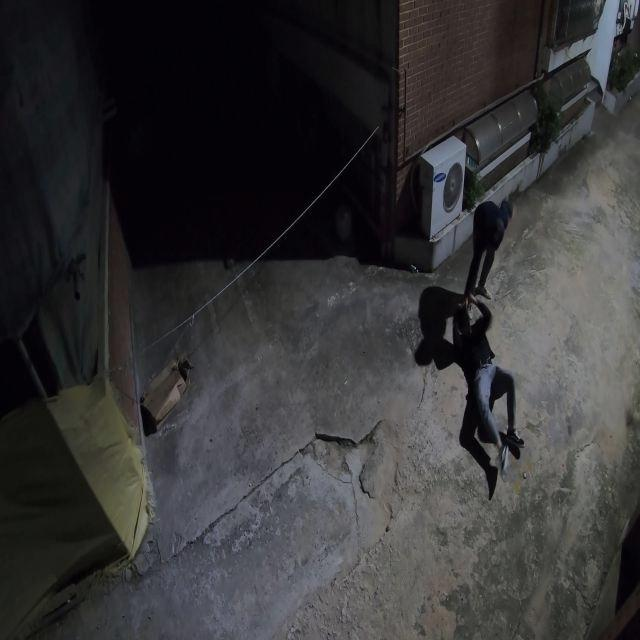fight: (404, 195, 527, 478)
